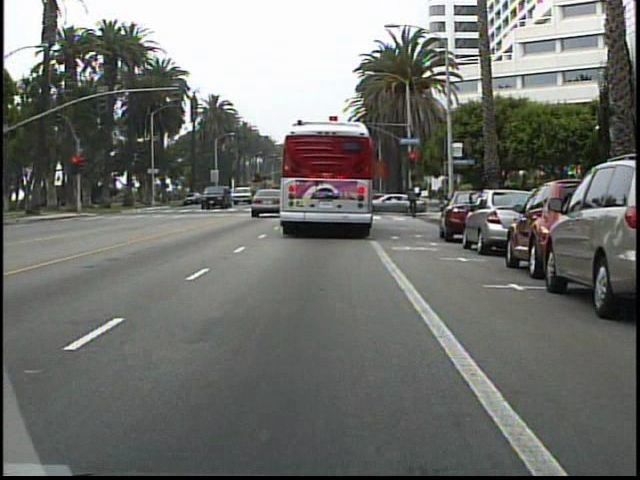person: (402, 184, 421, 217)
